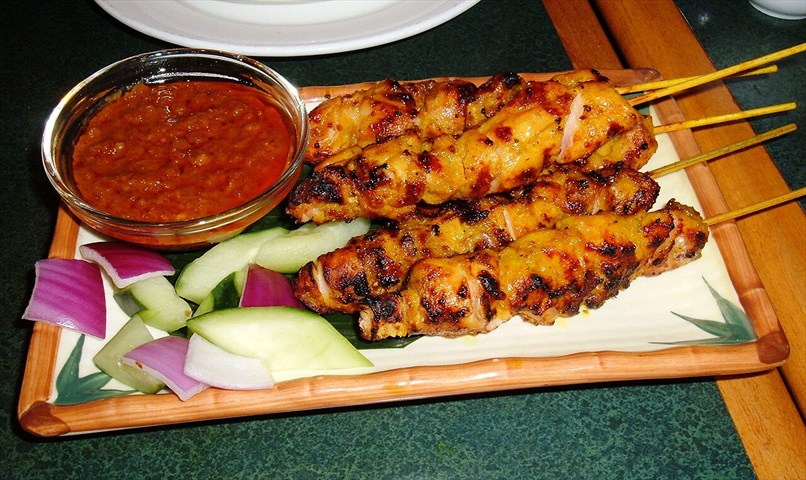Sate Ayam: (83, 75, 733, 405)
